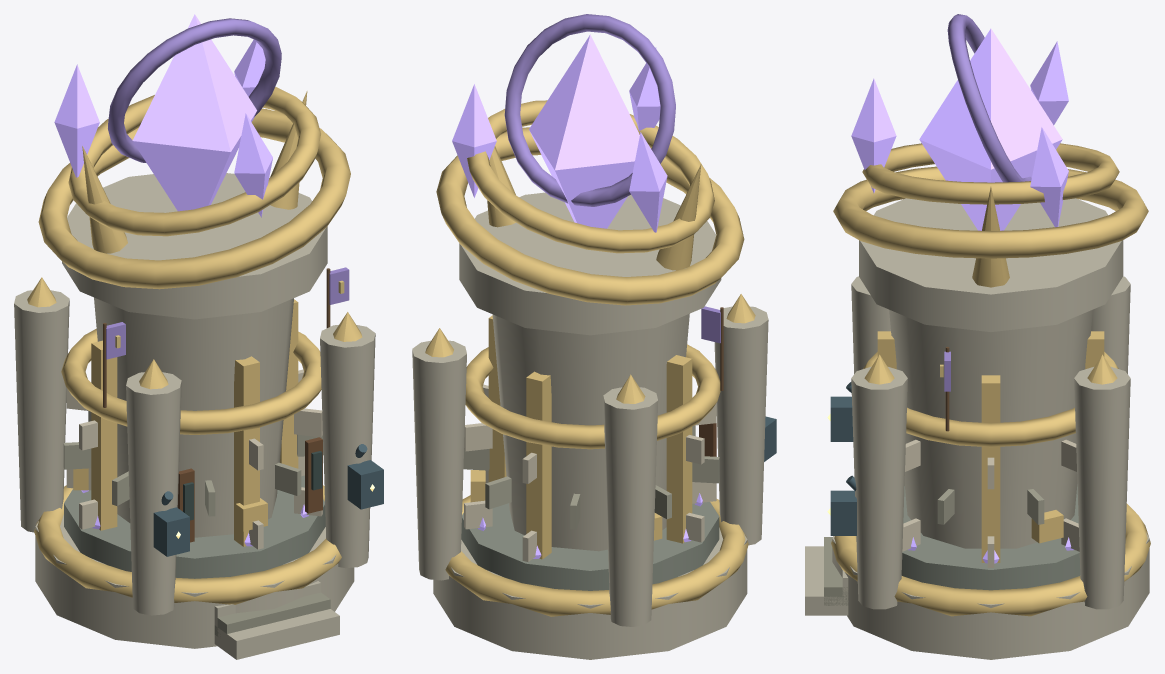
The model's file is tower-arcane-3-base.glb.
The picture shows the model from 3 angles, left to right: view 1: azimuth 30°, elevation 25°; view 2: azimuth 150°, elevation 25°; view 3: azimuth 270°, elevation 25°; orthographic projection.
Visible parts, largest first — view 1: Foundation, Turret, arcane-L3-base; view 2: Foundation, Turret, arcane-L3-base; view 3: Foundation, Turret, arcane-L3-base.
Boxes of the visible parts, left/top/right/bottom form: Foundation: left=14, top=267, right=383, bottom=659; Turret: left=38, top=14, right=350, bottom=319; arcane-L3-base: left=35, top=475, right=354, bottom=648; Foundation: left=412, top=294, right=776, bottom=626; Turret: left=436, top=14, right=744, bottom=335; arcane-L3-base: left=433, top=502, right=747, bottom=659; Foundation: left=805, top=276, right=1150, bottom=616; Turret: left=833, top=14, right=1148, bottom=331; arcane-L3-base: left=832, top=484, right=1149, bottom=659.
Bounding box in the file's own units: 1.69 × 3.33 × 1.83.
